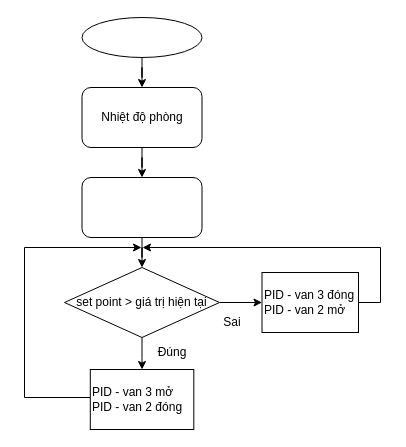
The diagram is 406 pixels wide and 447 high, and some of its shapes have lost their labels. The shapes that lost their labels are listed below. From the top down, each one's centre as x and y in pixels, then its label:
the point at 141,37: Bắt đầu
the point at 141,207: Nhập giá trị set point
